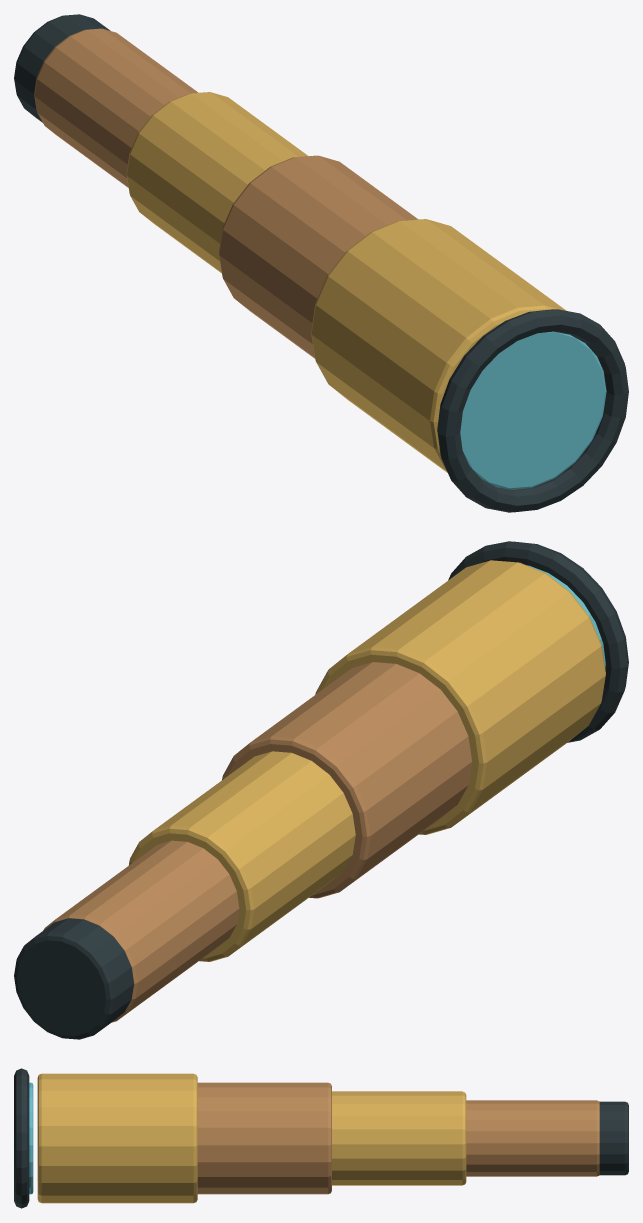
Rendered from P033_spyglass.glb.
The picture shows the model from 3 angles, top to bottom: view 1: azimuth 30°, elevation 25°; view 2: azimuth 150°, elevation 25°; view 3: azimuth 270°, elevation 25°; orthographic projection. The views are drawn at different scales.
Parts seen in each view (by area): view 1: P033_barrel_001, P033_barrel_002, P033_lens_005, P033_barrel_003, P033_barrel_004, P033_front_ring_006, P033_eyepiece_007; view 2: P033_barrel_001, P033_barrel_002, P033_barrel_003, P033_barrel_004, P033_eyepiece_007, P033_front_ring_006; view 3: P033_barrel_001, P033_barrel_002, P033_barrel_003, P033_barrel_004, P033_eyepiece_007, P033_front_ring_006, P033_lens_005.
Boxes of the visible parts, x1,y1,x2,y2 form: P033_barrel_001: [311, 219, 604, 489]; P033_barrel_002: [218, 155, 418, 358]; P033_lens_005: [460, 331, 606, 489]; P033_barrel_003: [126, 92, 308, 273]; P033_barrel_004: [34, 28, 198, 187]; P033_front_ring_006: [437, 309, 628, 512]; P033_eyepiece_007: [14, 14, 110, 122]; P033_barrel_001: [315, 560, 605, 834]; P033_barrel_002: [222, 662, 472, 898]; P033_barrel_003: [128, 751, 355, 961]; P033_barrel_004: [43, 840, 239, 1022]; P033_eyepiece_007: [14, 918, 133, 1039]; P033_front_ring_006: [448, 541, 628, 742]; P033_barrel_001: [37, 1073, 197, 1203]; P033_barrel_002: [197, 1082, 331, 1194]; P033_barrel_003: [332, 1091, 466, 1185]; P033_barrel_004: [466, 1100, 599, 1176]; P033_eyepiece_007: [599, 1101, 628, 1175]; P033_front_ring_006: [14, 1068, 29, 1208]; P033_lens_005: [29, 1082, 33, 1194].
Size of the model in its own units: 0.11 by 0.11 by 0.4805.
